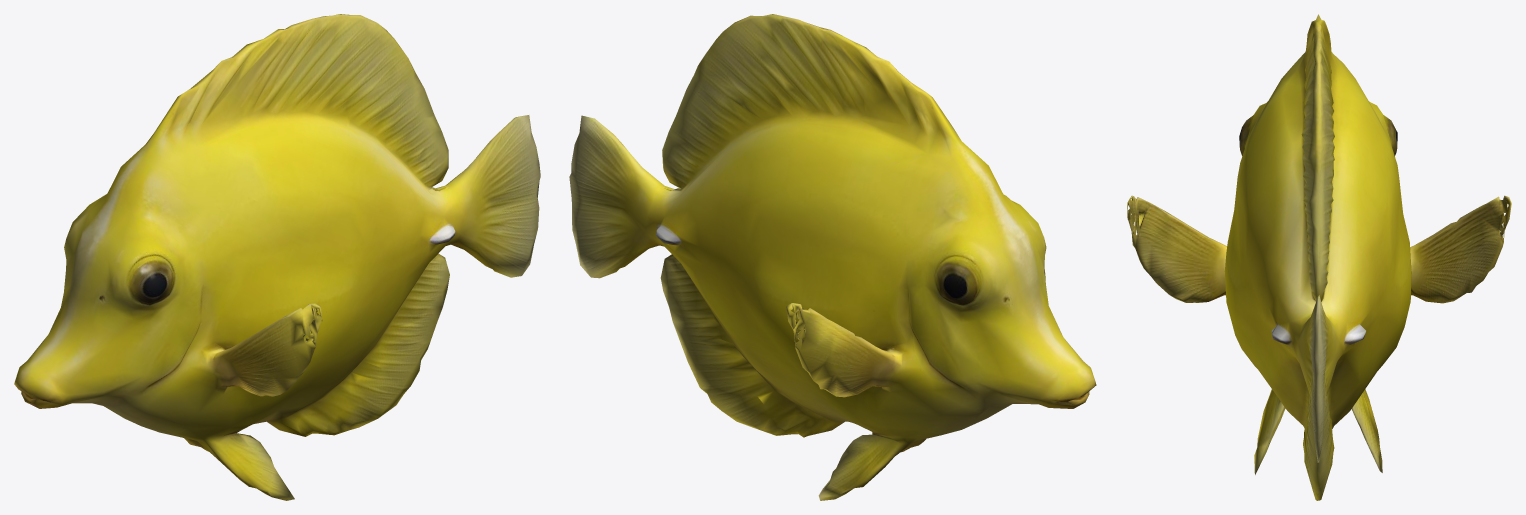
File: yellow_tang.94281b4537.glb
3 renders of one model, left to right at view 1: azimuth 30°, elevation 25°; view 2: azimuth 150°, elevation 25°; view 3: azimuth 270°, elevation 25°, orthographic. The views are drawn at different scales.
Parts seen in each view (by area): view 1: yellow_tang; view 2: yellow_tang; view 3: yellow_tang.
Boxes of the visible parts, <box> form: yellow_tang: <box>14,14,540,500</box>; yellow_tang: <box>569,14,1096,500</box>; yellow_tang: <box>1127,14,1511,500</box>.
Bounding box in the file's own units: 0.9803 × 0.7996 × 0.608.
1 material, 1 textured.
